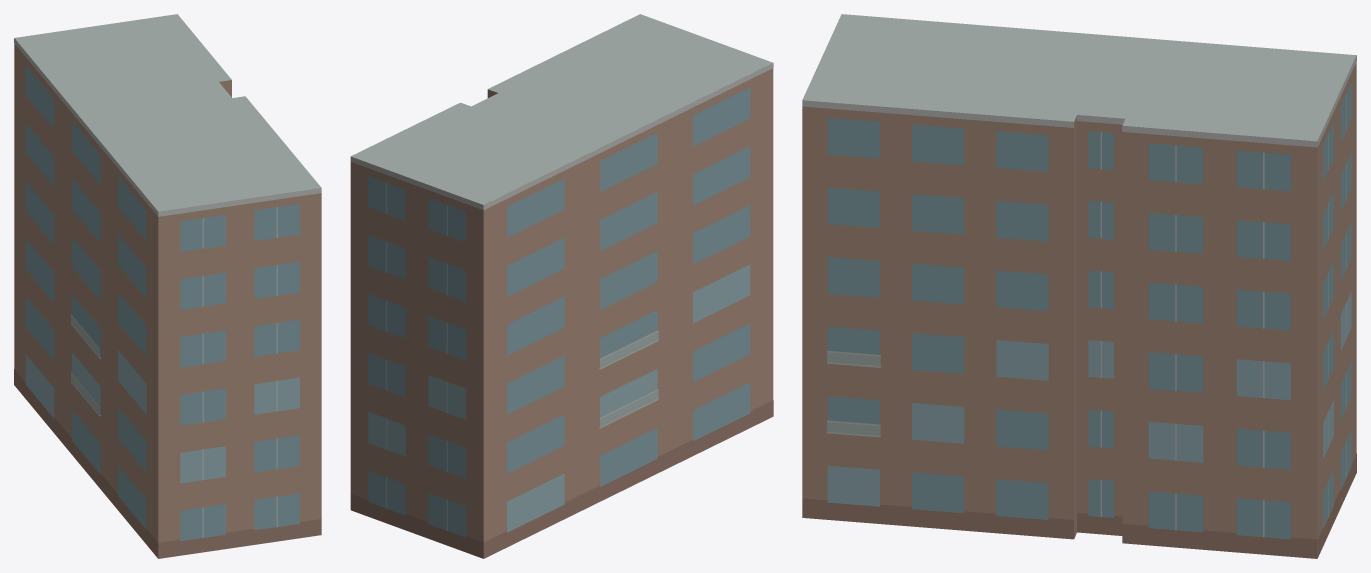
File: survey-upis-32654777.glb
3 views of the same model, side by side, from view 1: azimuth 30°, elevation 25°; view 2: azimuth 150°, elevation 25°; view 3: azimuth 270°, elevation 25° (orthographic). The views are drawn at different scales.
Visible parts, largest first — view 1: survey-upis-32654777.tmp; view 2: survey-upis-32654777.tmp; view 3: survey-upis-32654777.tmp.
Boxes of the visible parts, x1,y1,x2,y2 form: survey-upis-32654777.tmp: (14, 14, 321, 558); survey-upis-32654777.tmp: (350, 14, 773, 558); survey-upis-32654777.tmp: (802, 14, 1356, 558).
Bounding box in the file's own units: 10.81 × 16.5 × 19.87.
